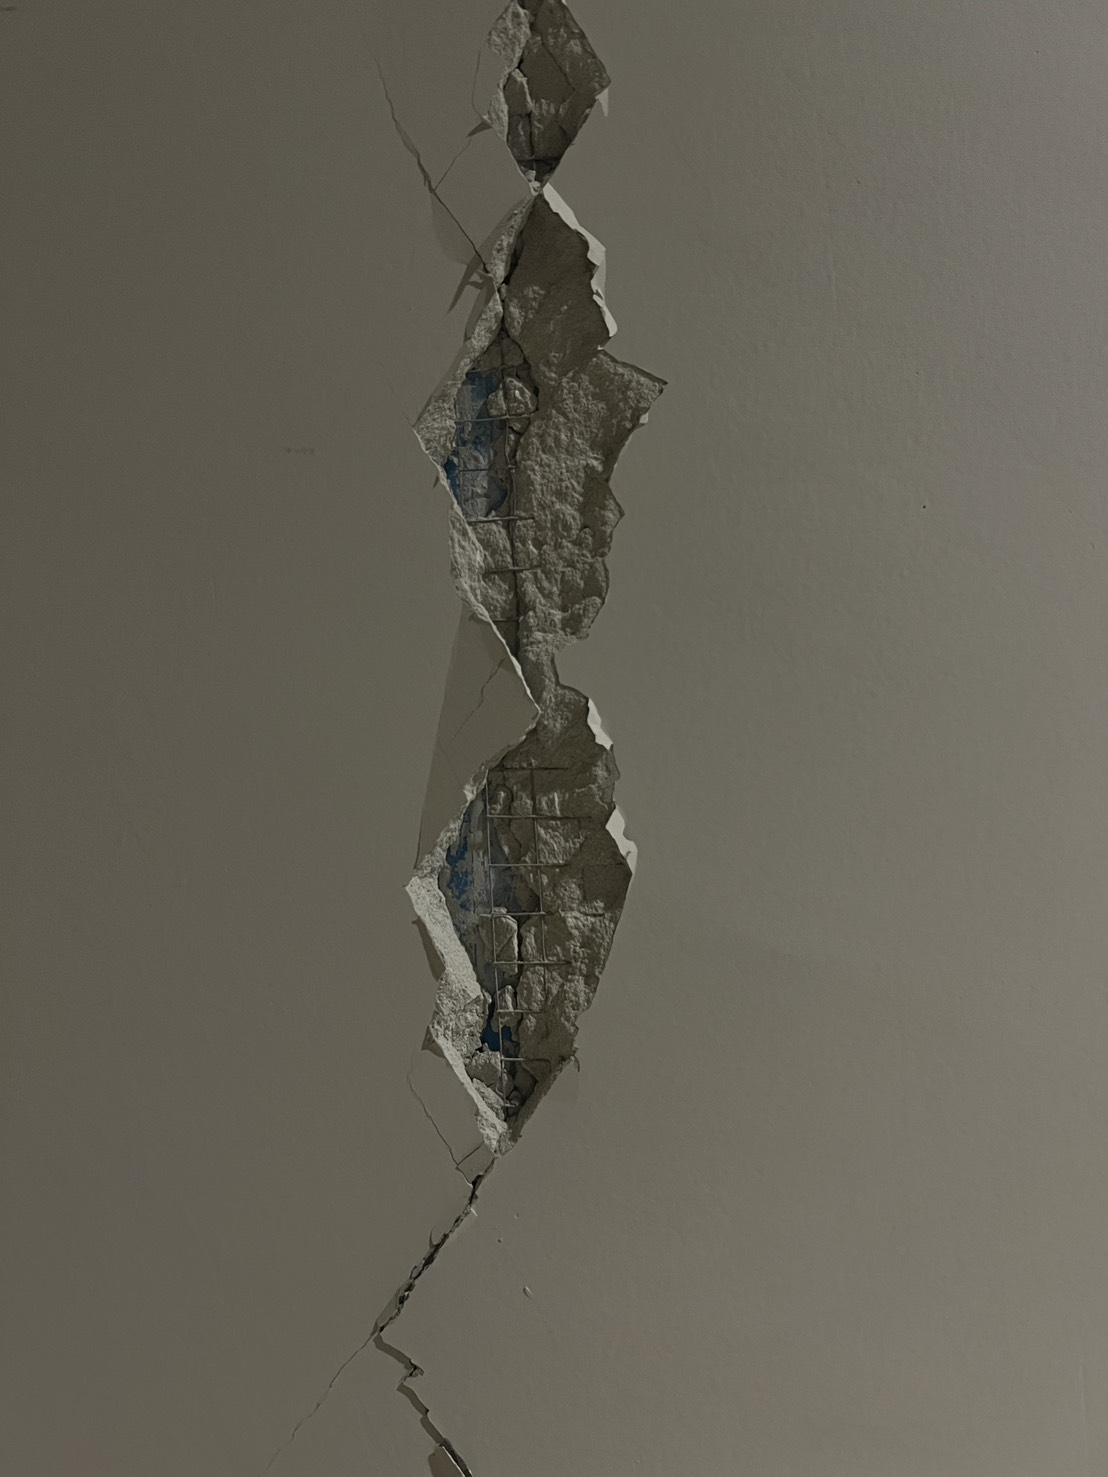Medium: (301, 10, 779, 1432)
